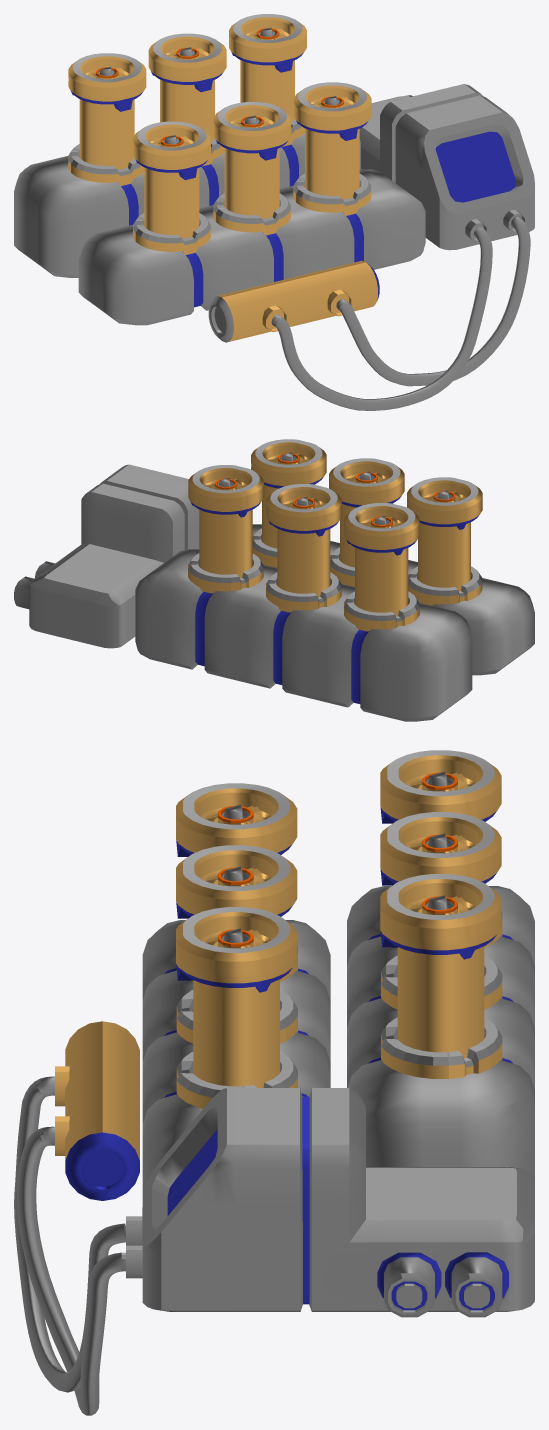
Rendered from Liquids_low.fbx.
3 renders of one model, top to bottom at view 1: azimuth 30°, elevation 25°; view 2: azimuth 150°, elevation 25°; view 3: azimuth 270°, elevation 25°, orthographic. The views are drawn at different scales.
Parts seen in each view (by area): view 1: Liquid_Base; view 2: Liquid_Base; view 3: Liquid_Base.
Part boxes in pixels (x1,y1,x2,y2): Liquid_Base: (14,14,534,410); Liquid_Base: (14,439,534,721); Liquid_Base: (14,750,534,1415).
Size of the model in its own units: 493 by 312 by 323.
